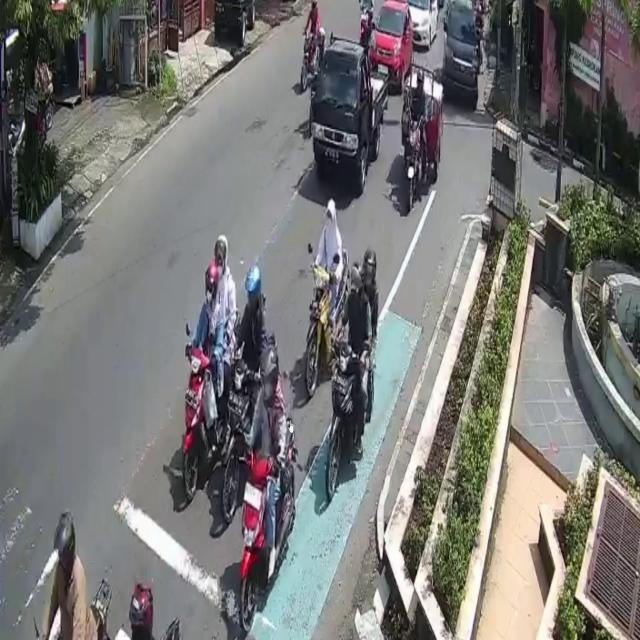car: (317, 35, 389, 202), (440, 0, 484, 113), (371, 0, 414, 92), (408, 0, 438, 51)
motorbike: (238, 417, 302, 633), (326, 332, 374, 500), (301, 244, 349, 397), (180, 321, 221, 499), (224, 352, 252, 526), (403, 118, 428, 205), (300, 31, 326, 86)
